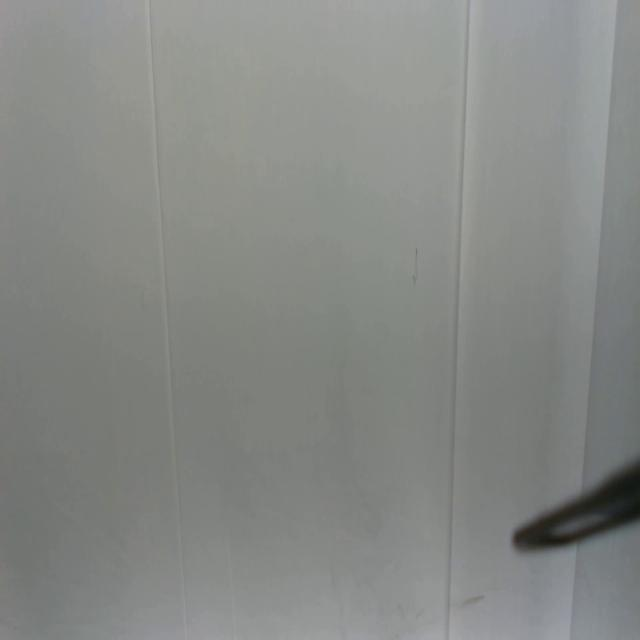crease: (148, 1, 187, 640), (581, 0, 619, 471), (446, 0, 471, 639), (566, 544, 580, 640)
